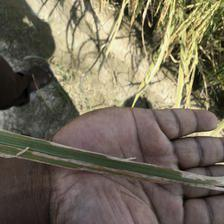2 BacterialBlight: (6, 129, 221, 196)
